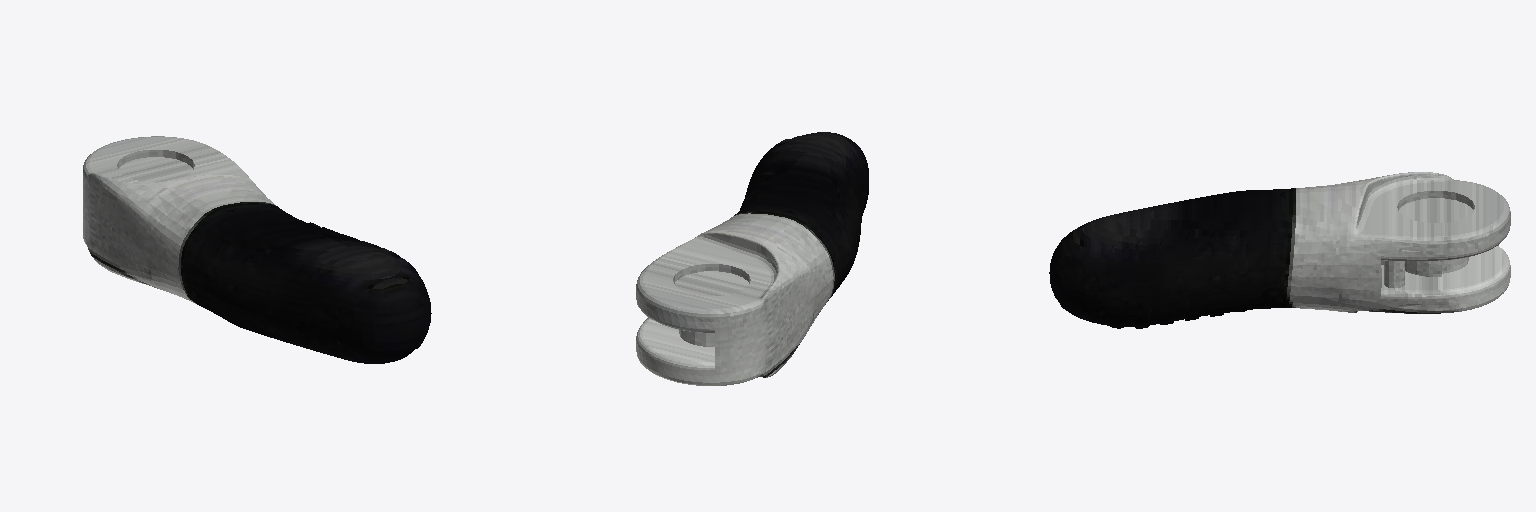
3 views of the same model, side by side, from view 1: azimuth 30°, elevation 25°; view 2: azimuth 150°, elevation 25°; view 3: azimuth 270°, elevation 25° (orthographic).
Visible parts, largest first — view 1: Ring_Distal; view 2: Ring_Distal; view 3: Ring_Distal.
Part boxes in pixels (x1,y1,x2,y2): Ring_Distal: (83,136,431,363); Ring_Distal: (636,132,868,385); Ring_Distal: (1049,172,1510,328).
Size of the model in its own units: 0.0236 by 0.0146 by 0.0564.
1 materials, 1 textured.